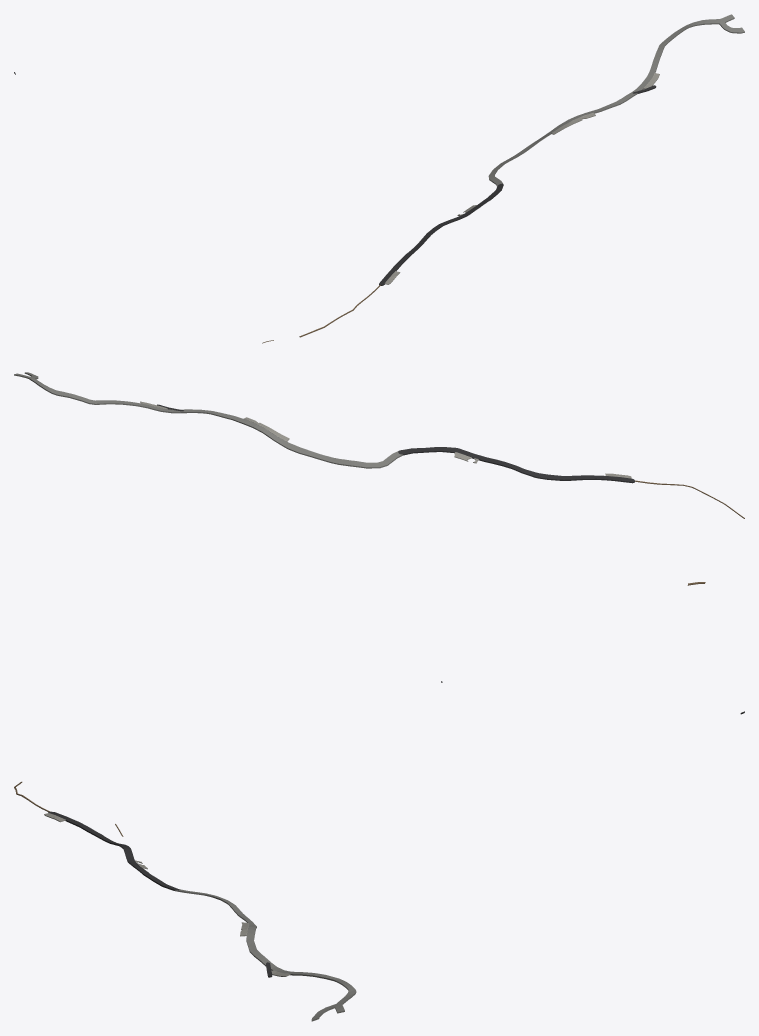
The model's file is 15-27349-14862.2bda4214.glb.
3 views of the same model, one above another, from view 1: azimuth 30°, elevation 25°; view 2: azimuth 150°, elevation 25°; view 3: azimuth 270°, elevation 25° (orthographic). The views are drawn at different scales.
Size of the model in its own units: 664 by 147 by 593.
